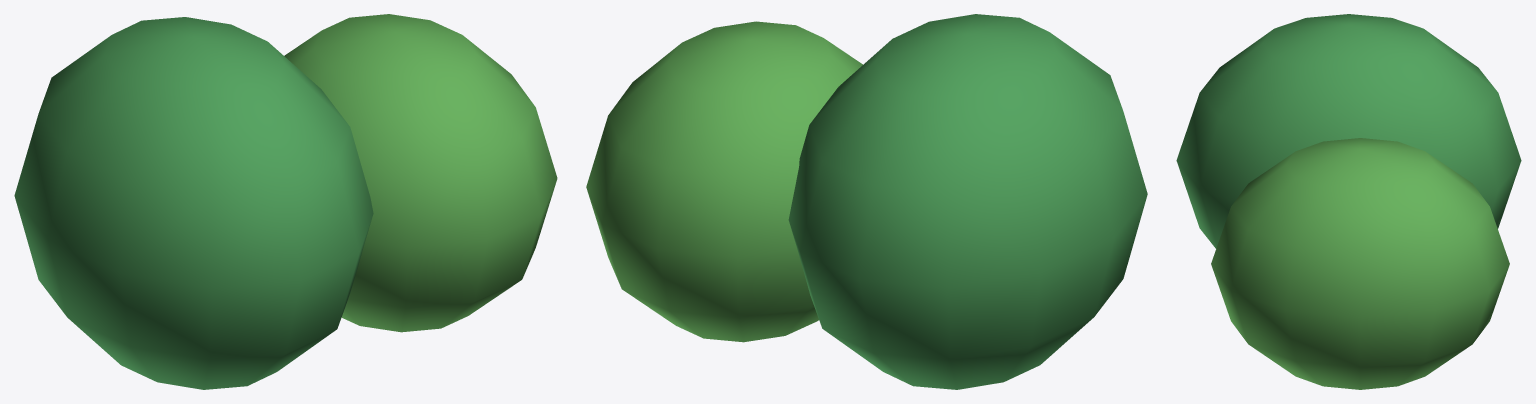
Rendered from CM_Prop_Bush.fbx.
The picture shows the model from 3 angles, left to right: view 1: azimuth 30°, elevation 25°; view 2: azimuth 150°, elevation 25°; view 3: azimuth 270°, elevation 25°; orthographic projection. The views are drawn at different scales.
Parts seen in each view (by area): view 1: Body; view 2: Body; view 3: Body.
Boxes of the visible parts, box(x1,y1,x2,y2) form: Body: box(14, 14, 557, 389); Body: box(586, 14, 1147, 389); Body: box(1176, 14, 1521, 389).
Bounding box in the file's own units: 4 × 3 × 2.6.
Materials: 1 (1 with a texture image).
